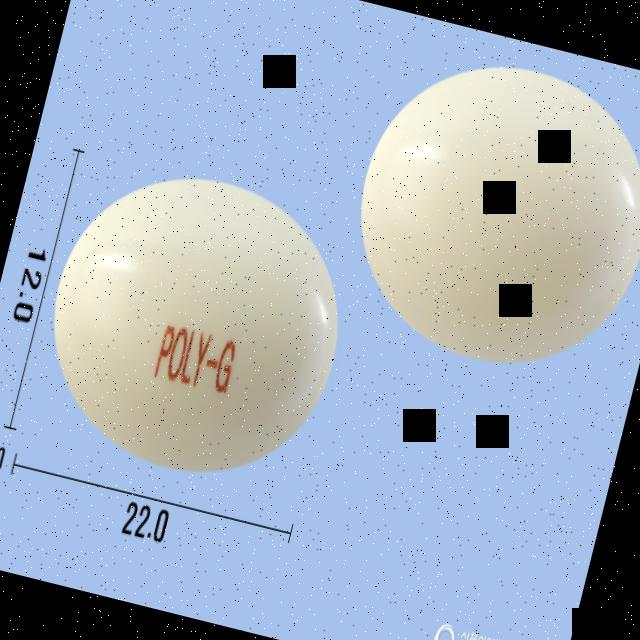Poly G Vaginal Soft Cap: (23, 145, 369, 500)
